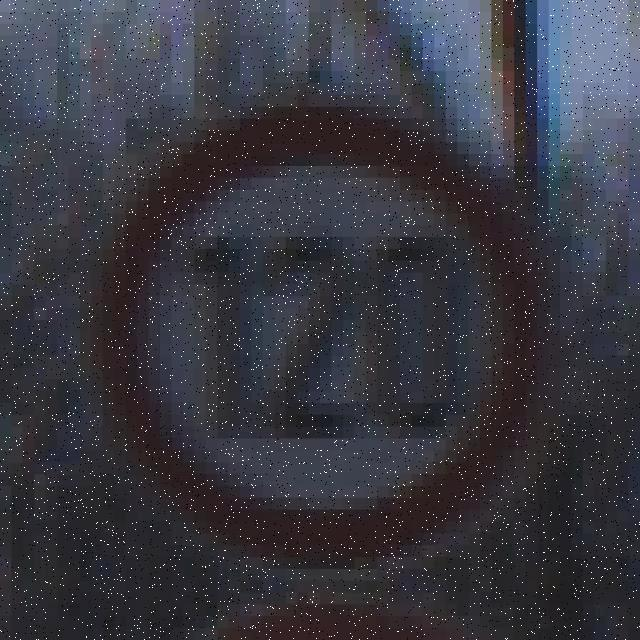Ograniczenie predkosci do 120: (94, 105, 542, 563)
